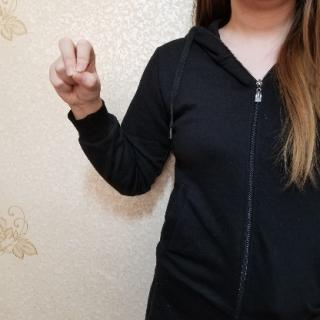QAAF: (47, 34, 107, 114)
